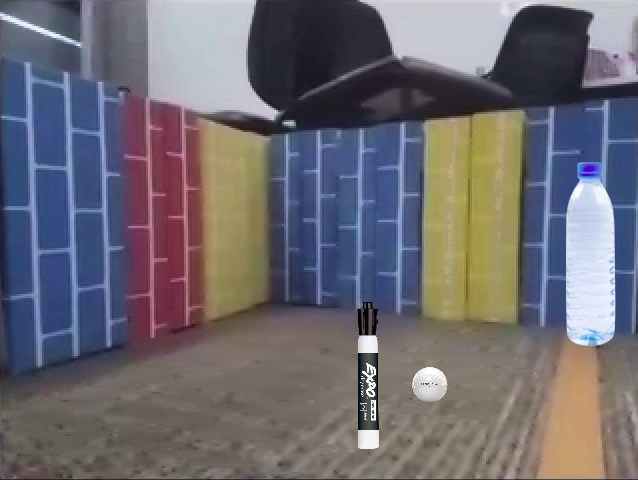ball: (412, 367, 448, 403)
